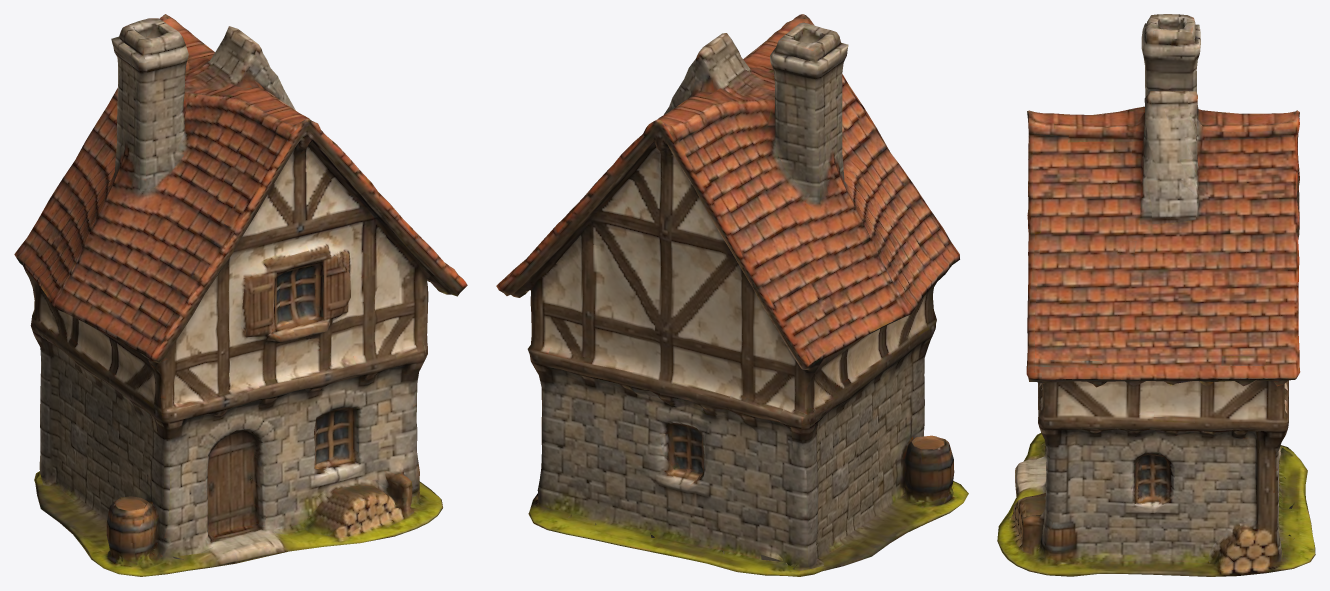
The picture shows the model from 3 angles, left to right: view 1: azimuth 30°, elevation 25°; view 2: azimuth 150°, elevation 25°; view 3: azimuth 270°, elevation 25°; orthographic projection. The views are drawn at different scales.
Visible parts, largest first — view 1: tripo_node_faf07644-9b46-42ad-957d-9a03cdc037e2; view 2: tripo_node_faf07644-9b46-42ad-957d-9a03cdc037e2; view 3: tripo_node_faf07644-9b46-42ad-957d-9a03cdc037e2.
Boxes of the visible parts, <box> form: tripo_node_faf07644-9b46-42ad-957d-9a03cdc037e2: <box>14,14,467,576</box>; tripo_node_faf07644-9b46-42ad-957d-9a03cdc037e2: <box>496,14,968,576</box>; tripo_node_faf07644-9b46-42ad-957d-9a03cdc037e2: <box>997,14,1315,576</box>.
Size of the model in its own units: 0.7388 by 0.98 by 0.6276.
1 material, 1 textured.
